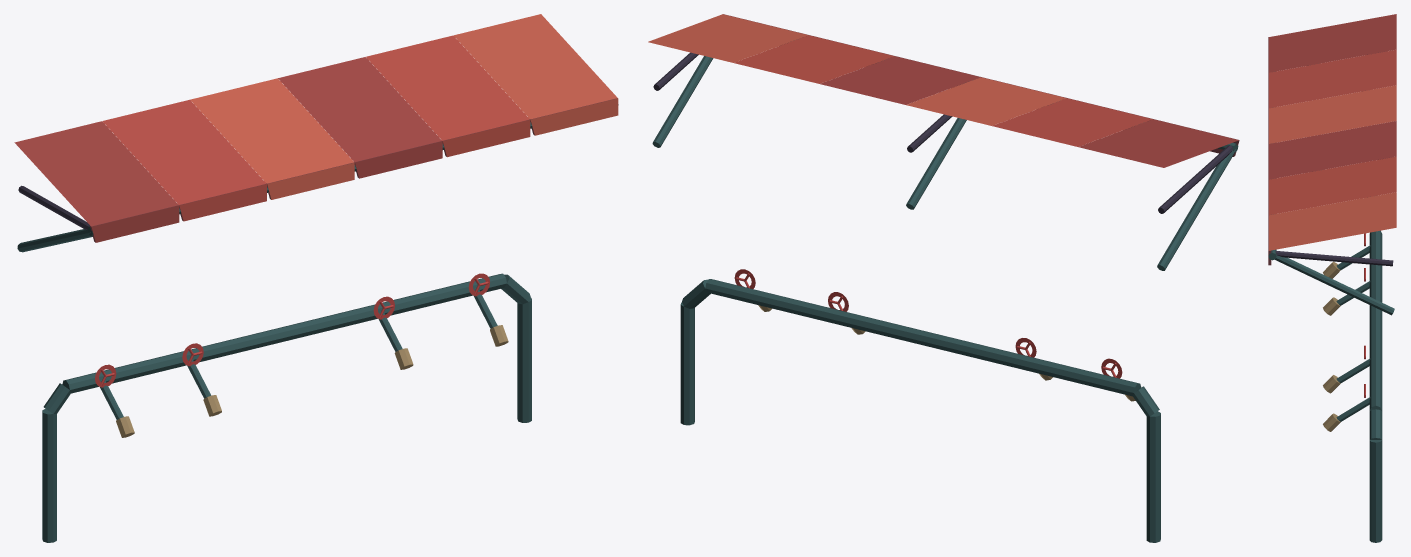
The model's file is ExchangeCanopy.gltf.
3 views of the same model, side by side, from view 1: azimuth 30°, elevation 25°; view 2: azimuth 150°, elevation 25°; view 3: azimuth 270°, elevation 25° (orthographic). The views are drawn at different scales.
Visible parts, largest first — view 1: ExchangeCanopy; view 2: ExchangeCanopy; view 3: ExchangeCanopy.
Part boxes in pixels (x1=…): ExchangeCanopy: x1=14, y1=14, x2=618, y2=542; ExchangeCanopy: x1=648, y1=14, x2=1239, y2=542; ExchangeCanopy: x1=1268, y1=14, x2=1396, y2=542.
Size of the model in its own units: 4.16 by 2.97 by 1.05.
